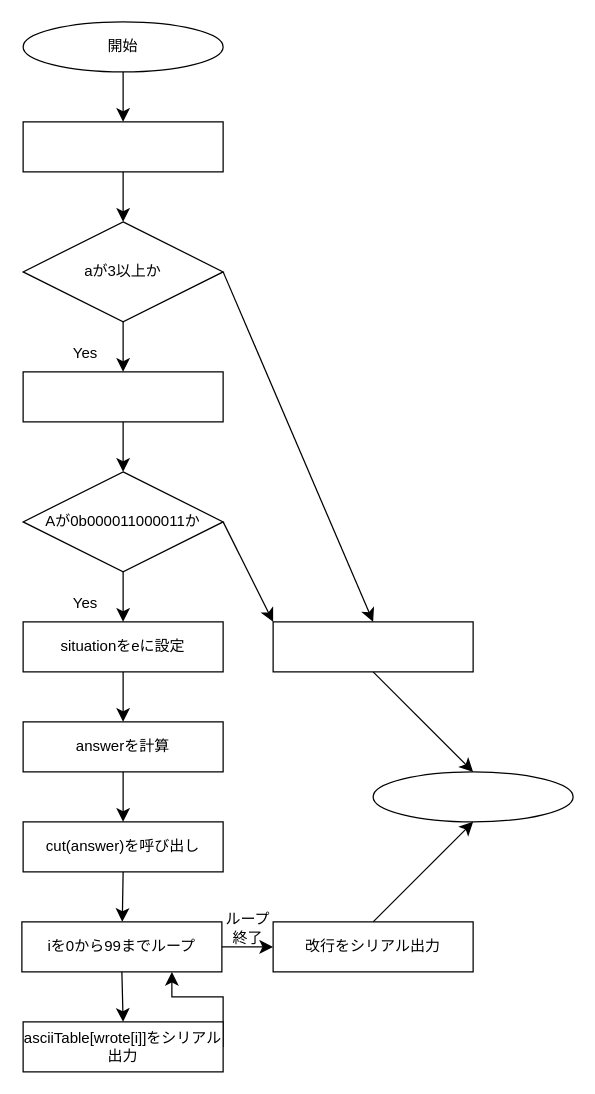
Some shapes in this 595 by 1094 pixel diagram are drawn without their labels. The shapes that lost their labels are listed below. From the top down, each one's centre as x and y in pixels, then its label:
At point 122,146: "written[a]にnumを格納".
At point 122,396: "Aを計算".
At point 372,646: "aをインクリメント".
At point 472,796: "終了".
